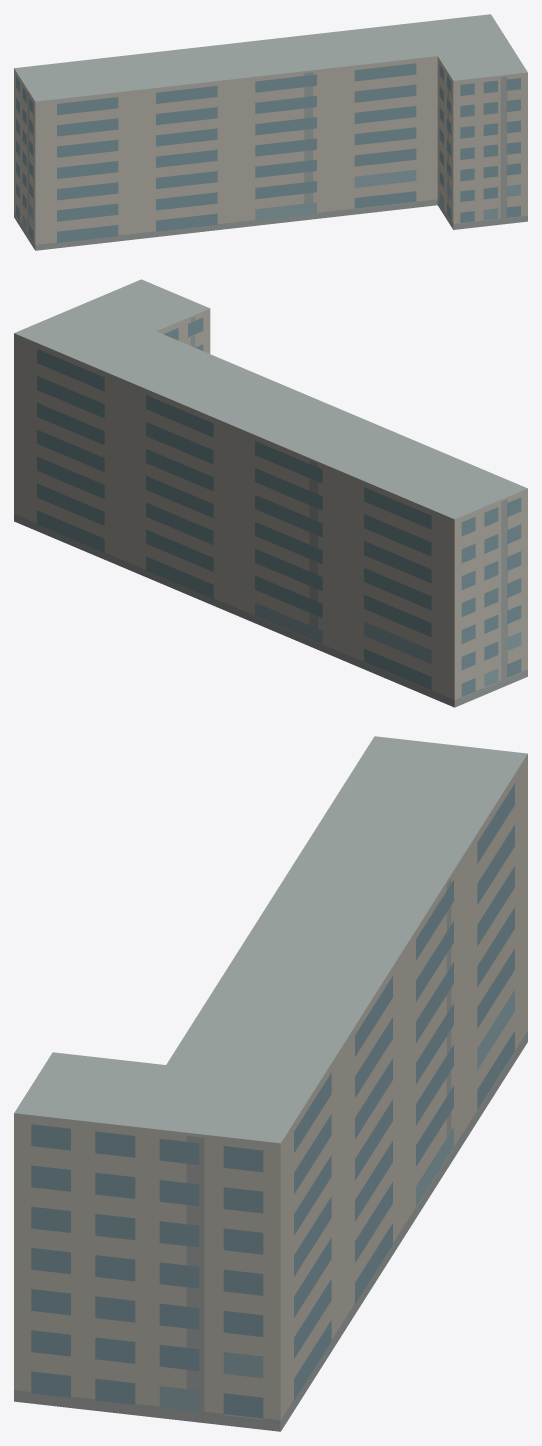
The model's file is residential-c5845108-2f28-40de-8ae9-208ec7378f9b.glb.
The picture shows the model from 3 angles, top to bottom: view 1: azimuth 30°, elevation 25°; view 2: azimuth 150°, elevation 25°; view 3: azimuth 270°, elevation 25°; orthographic projection. The views are drawn at different scales.
Parts seen in each view (by area): view 1: residential-c5845108-2f28-40de-8ae9-208ec7378f9b.tmp; view 2: residential-c5845108-2f28-40de-8ae9-208ec7378f9b.tmp; view 3: residential-c5845108-2f28-40de-8ae9-208ec7378f9b.tmp.
Boxes of the visible parts, x1,y1,x2,y2 form: residential-c5845108-2f28-40de-8ae9-208ec7378f9b.tmp: (14,14,527,250); residential-c5845108-2f28-40de-8ae9-208ec7378f9b.tmp: (14,279,527,707); residential-c5845108-2f28-40de-8ae9-208ec7378f9b.tmp: (14,736,527,1431).
Size of the model in its own units: 63.58 by 21 by 33.92.
